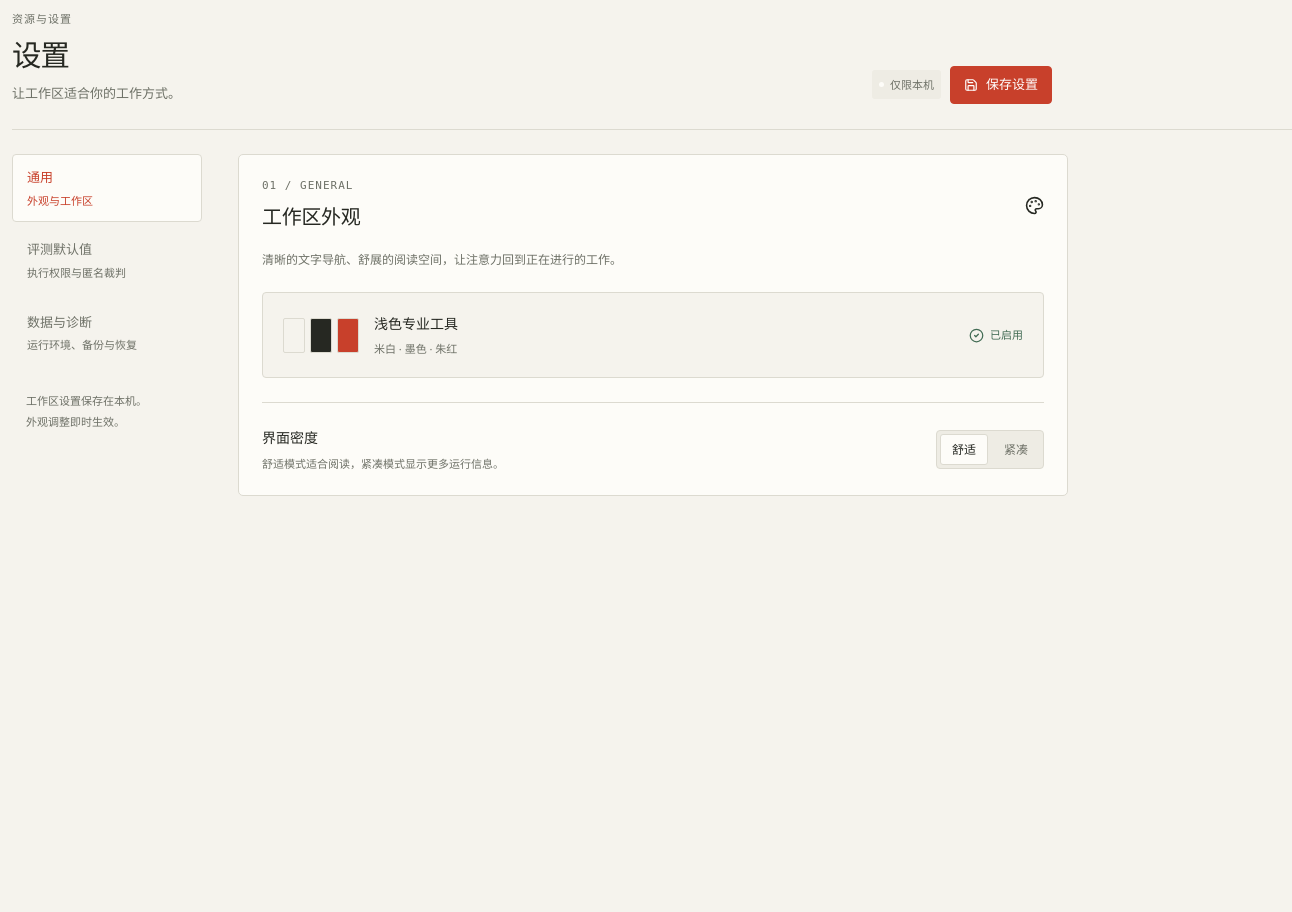
Test: settings › persists judge selection immediately
Click the button "评测默认值 执行权限与匿名裁判".
click(107, 260)  # box x1=12 y1=226 x2=202 y2=295
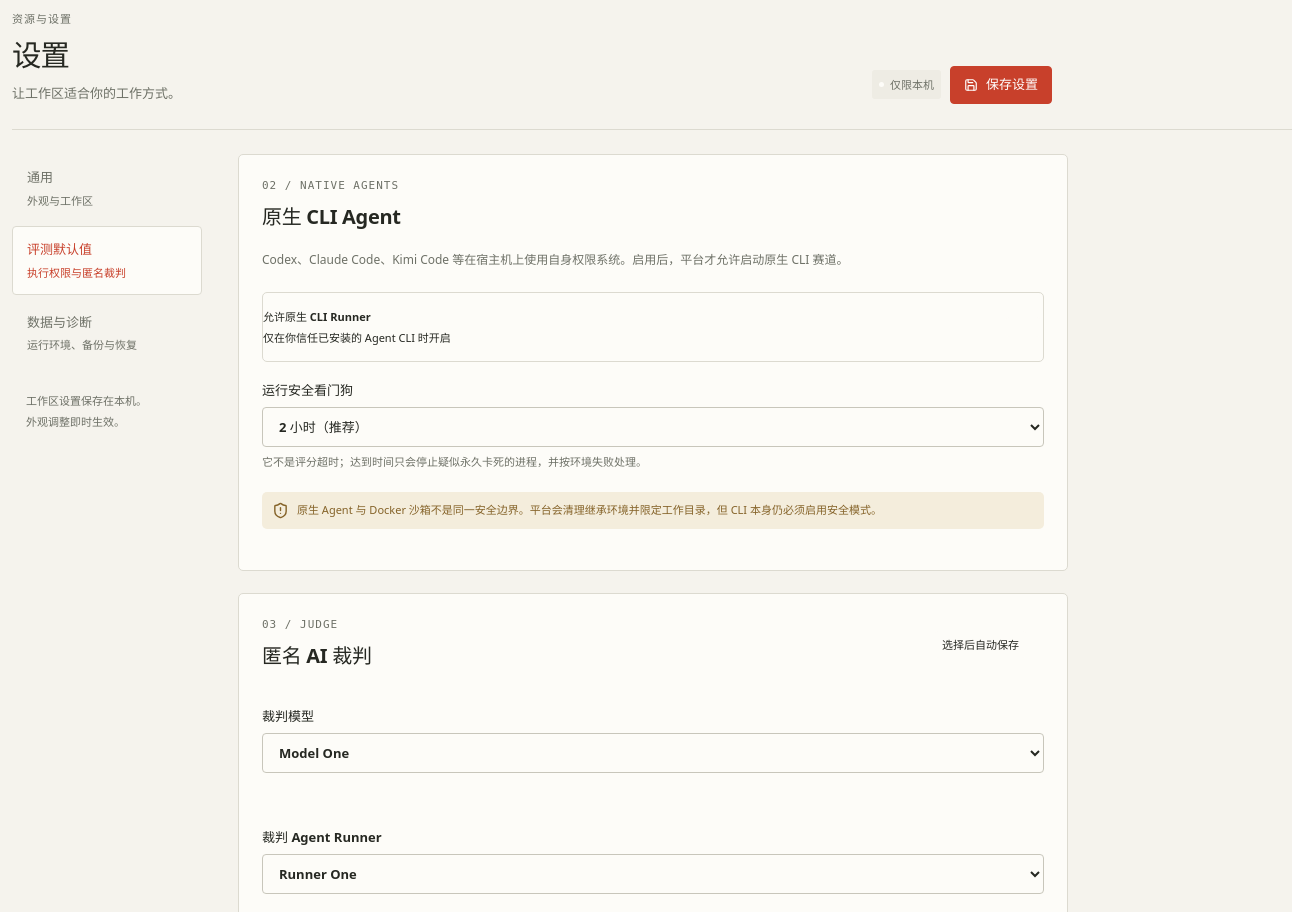
Select "Model Two" in the dropdown labelled "裁判模型" at (653, 753), box x1=262 y1=733 x2=1044 y2=773
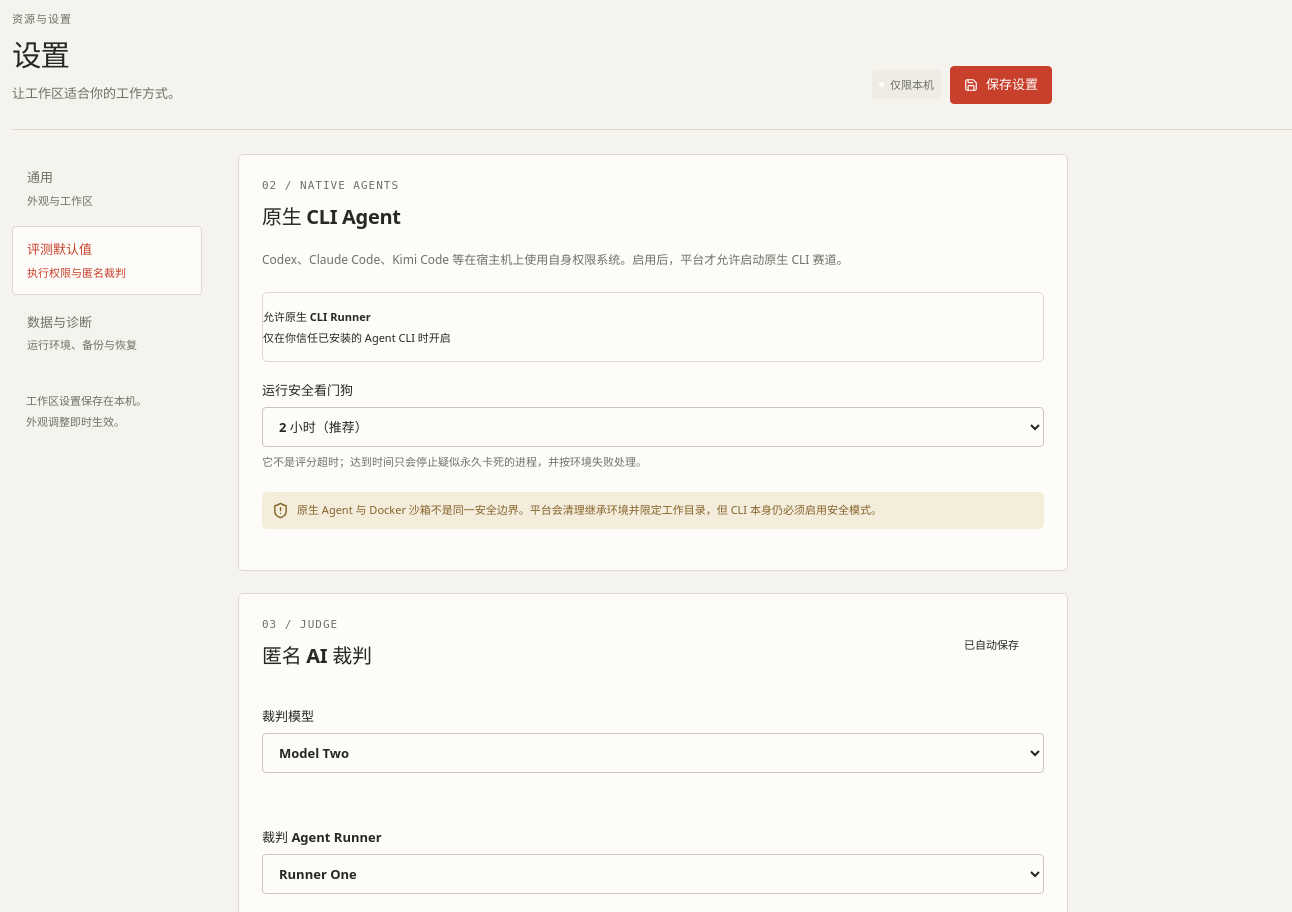
Check: the text "已自动保存" is shown, box x1=956 y1=631 x2=1027 y2=658
